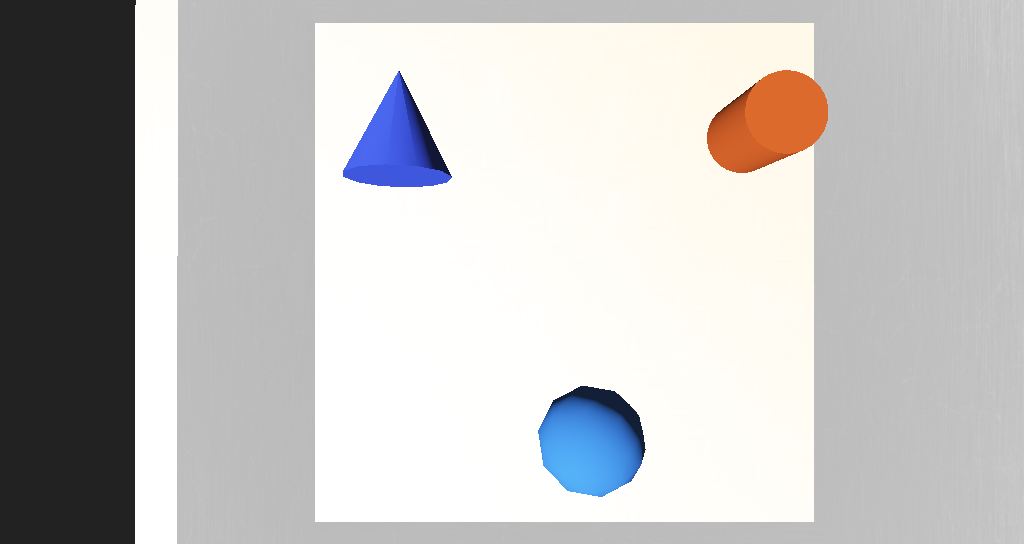cone: (593, 186, 647, 224)
cylinder: (371, 179, 438, 231)
sphere: (485, 317, 552, 360)
